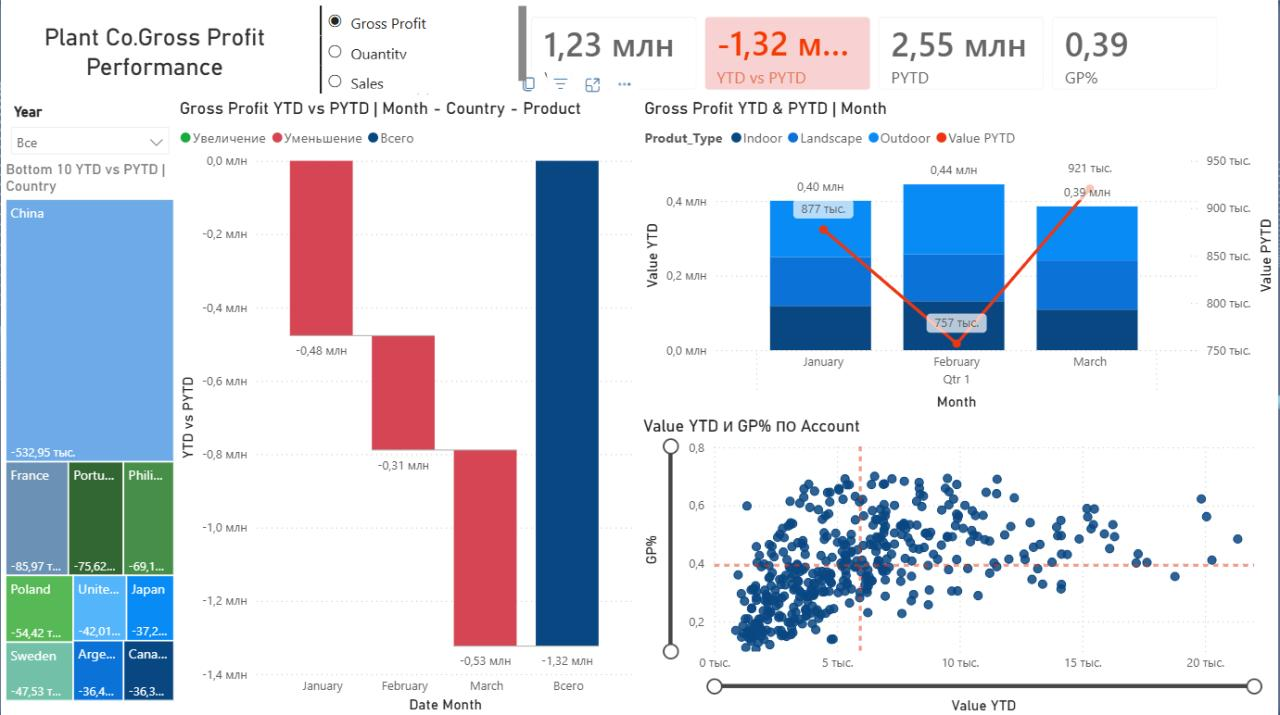

What the dashboard file says about the page in this screenshot:
{"tool":"powerbi","page":{"name":"Page 1","canvas":[1280,720],"ordinal":0},"visuals":[{"type":"cardVisual","fields":{"Data":["_Measures.S_YTD","_Measures.YTD vs PYTD","_Measures.S_PYTD","_Measures.GP%"]},"box":[513.9,0,723.9,107.4],"z":0},{"type":"slicer","fields":{"Values":["Dim_Date.Date.Variation.Date Hierarchy.Year"]},"box":[0,98.9,178.6,62.7],"z":1000},{"type":"treemap","title":"Bottom 10 YTD vs PYTD | Country","fields":{"Values":["_Measures.YTD vs PYTD"],"Group":["Dim_Account.country"]},"box":[0,161.7,178.6,546.5],"z":2000},{"type":"waterfallChart","fields":{"Y":["_Measures.YTD vs PYTD"],"Category":["Dim_Date.Date.Variation.Date Hierarchy.Month","Dim_Account.country","Dim_Product.Produt_Type","Dim_Product.Product_Name_id"]},"box":[173.7,98.9,465.7,621.3],"z":3000},{"type":"lineStackedColumnComboChart","fields":{"Y":["_Measures.S_YTD"],"Y2":["_Measures.S_PYTD"],"Category":["Dim_Date.Date.Variation.Date Hierarchy.Quarter","Dim_Date.Date.Variation.Date Hierarchy.Month"],"Series":["Dim_Product.Produt_Type"]},"box":[639.4,98.9,640.6,317.3],"z":4000},{"type":"listSlicer","fields":{"Values":["Slc_Values.Values"]},"box":[314.9,1.2,217.2,97.7],"z":5000},{"type":"scatterChart","fields":{"Y":["_Measures.GP%"],"X":["_Measures.S_YTD"],"Category":["Dim_Account.Account"]},"box":[639,416,641,304],"z":6000},{"type":"card","fields":{"Values":["_Measures._Report title"]},"box":[0,1.2,314.9,97.7],"z":6001}]}

Visuals, with their boxes in screenshot pixels (x1, y1, x2, y2), scaled from the page's 1280x720 canvas onto the 1280x715 screenshot:
cardVisual - _Measures.S_YTD x _Measures.YTD vs PYTD: [x1=514, y1=0, x2=1238, y2=107]
slicer - Dim_Date.Date.Variation.Date Hierarchy.Year: [x1=0, y1=98, x2=179, y2=160]
"Bottom 10 YTD vs PYTD | Country" treemap: [x1=0, y1=161, x2=179, y2=703]
waterfallChart - _Measures.YTD vs PYTD x Dim_Date.Date.Variation.Date Hierarchy.Month: [x1=174, y1=98, x2=639, y2=714]
lineStackedColumnComboChart - _Measures.S_YTD x _Measures.S_PYTD: [x1=639, y1=98, x2=1279, y2=413]
listSlicer - Slc_Values.Values: [x1=315, y1=1, x2=532, y2=98]
scatterChart - _Measures.GP% x _Measures.S_YTD: [x1=639, y1=413, x2=1279, y2=714]
card - _Measures._Report title: [x1=0, y1=1, x2=315, y2=98]
